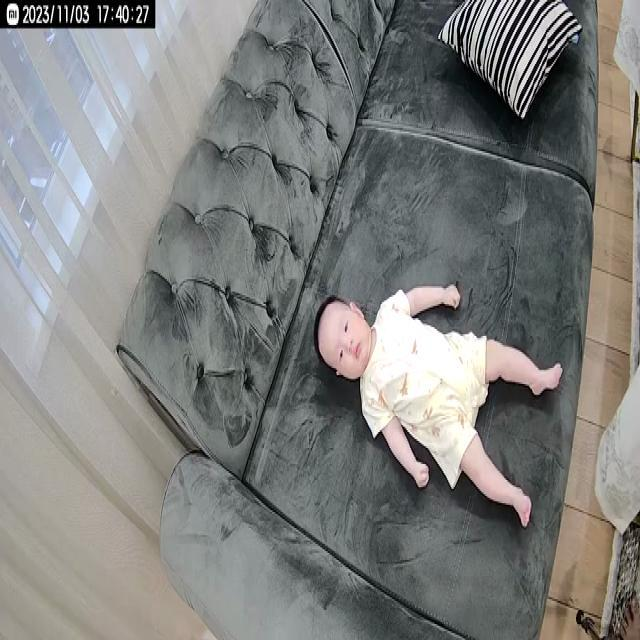baby: (312, 278, 565, 529)
